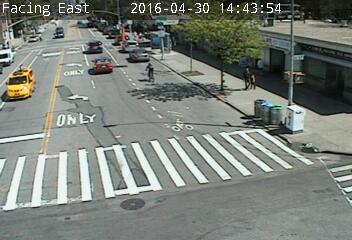neg: (137, 56, 159, 86), (11, 25, 19, 36), (88, 17, 96, 27)
pos: (237, 68, 253, 90), (248, 72, 260, 88)
